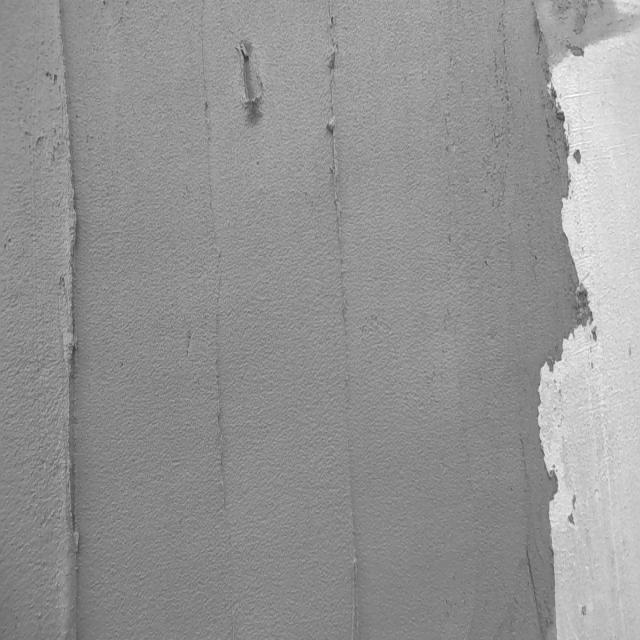trowels marks: (324, 17, 366, 633), (195, 30, 236, 565), (55, 17, 82, 640)
